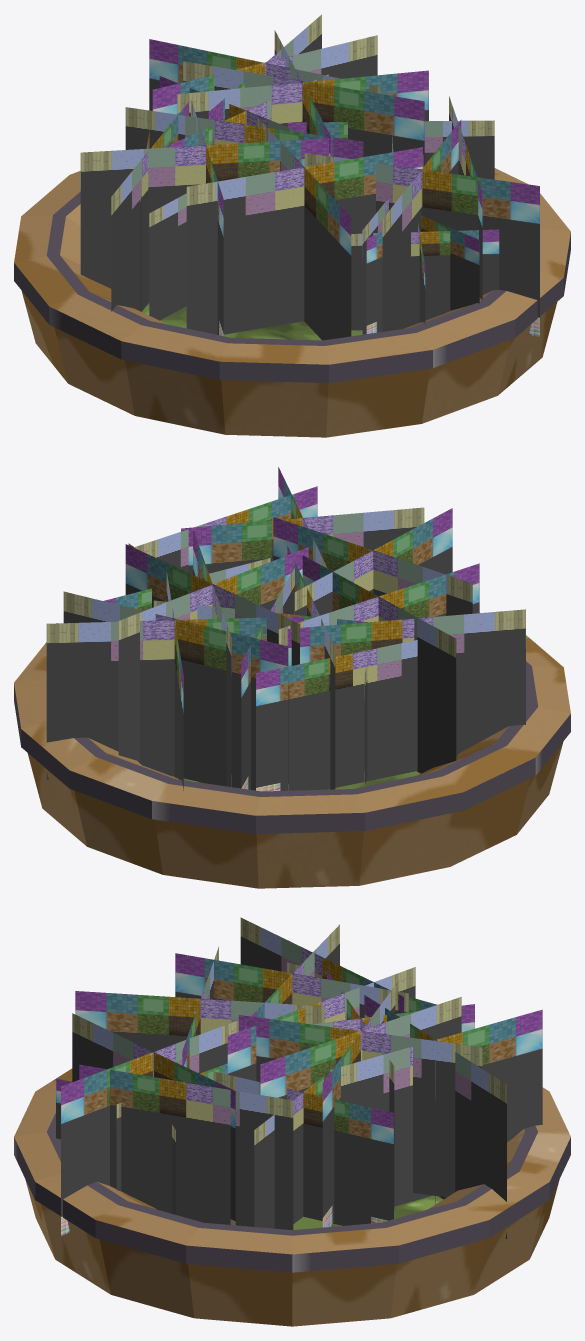
The model's file is Planter_Tree_01.fbx.
3 views of the same model, one above another, from view 1: azimuth 30°, elevation 25°; view 2: azimuth 150°, elevation 25°; view 3: azimuth 270°, elevation 25° (orthographic).
Parts seen in each view (by area): view 1: Grass, Planter, GrassPlane; view 2: Grass, Planter; view 3: Grass, Planter, GrassPlane.
Part boxes in pixels (x1=…): Grass: x1=80, y1=14, x2=539, y2=340; Planter: x1=14, y1=168, x2=570, y2=437; GrassPlane: x1=142, y1=303, x2=362, y2=340; Grass: x1=46, y1=467, x2=525, y2=791; Planter: x1=14, y1=635, x2=570, y2=888; Grass: x1=56, y1=917, x2=542, y2=1238; Planter: x1=14, y1=1068, x2=570, y2=1326; GrassPlane: x1=293, y1=1195, x2=443, y2=1229.
Size of the model in its own units: 200 by 83.05 by 200.
